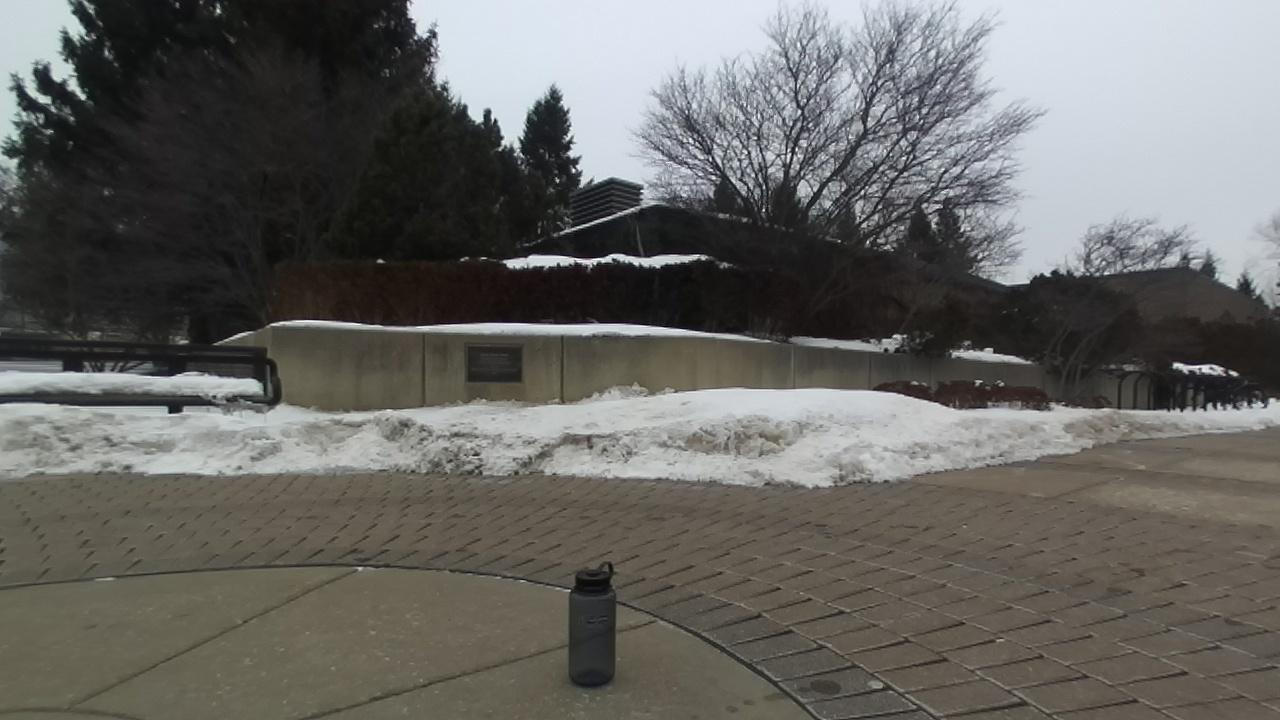bottle: (569, 561, 617, 686)
